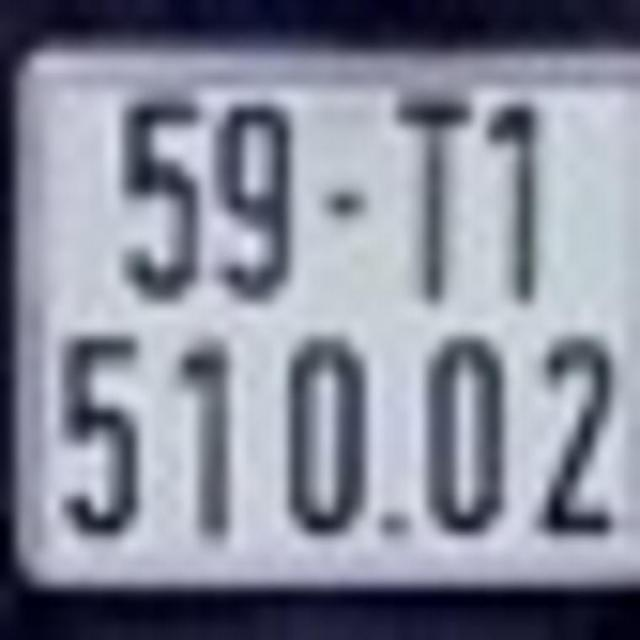0: (280, 329, 364, 535), (424, 338, 510, 536)
1: (480, 93, 544, 306), (180, 336, 238, 541)
2: (539, 322, 612, 537)
5: (117, 93, 203, 310), (58, 337, 145, 545)
9: (213, 98, 299, 300)
T: (383, 82, 468, 317)
